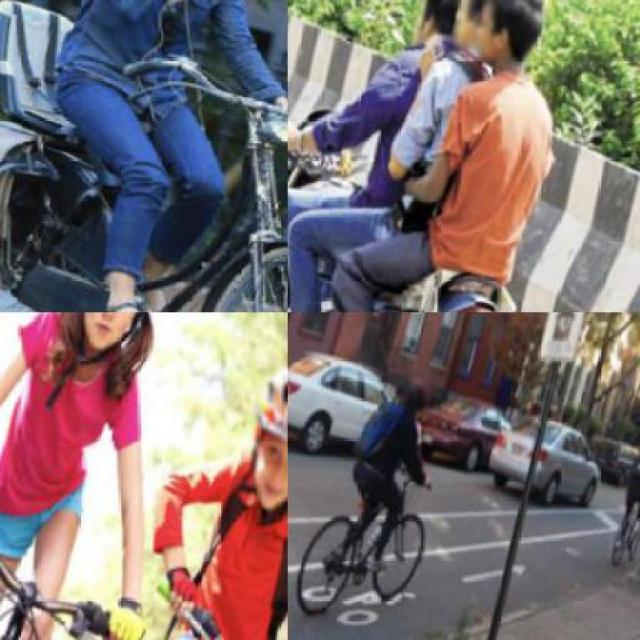With Helmet: (217, 349, 286, 528), (45, 312, 186, 360), (392, 369, 438, 418), (632, 428, 638, 463)
Without Helmet: (459, 0, 552, 78), (400, 0, 482, 62), (442, 0, 509, 57)
